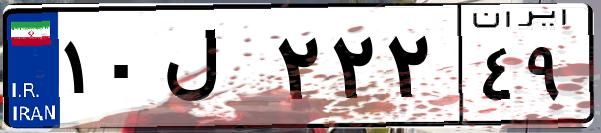0: (110, 28, 158, 98)
1: (57, 26, 110, 100)
2: (270, 28, 330, 110), (385, 28, 445, 110), (330, 28, 385, 110)
4: (475, 38, 525, 113)
9: (525, 38, 570, 115)
ل: (158, 20, 270, 120)
